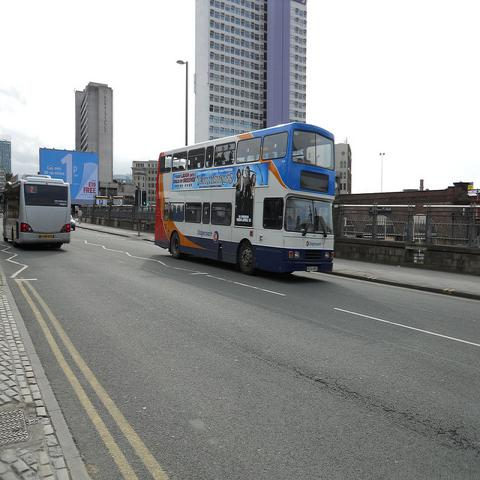bus: (154, 123, 336, 278), (0, 174, 71, 248)
